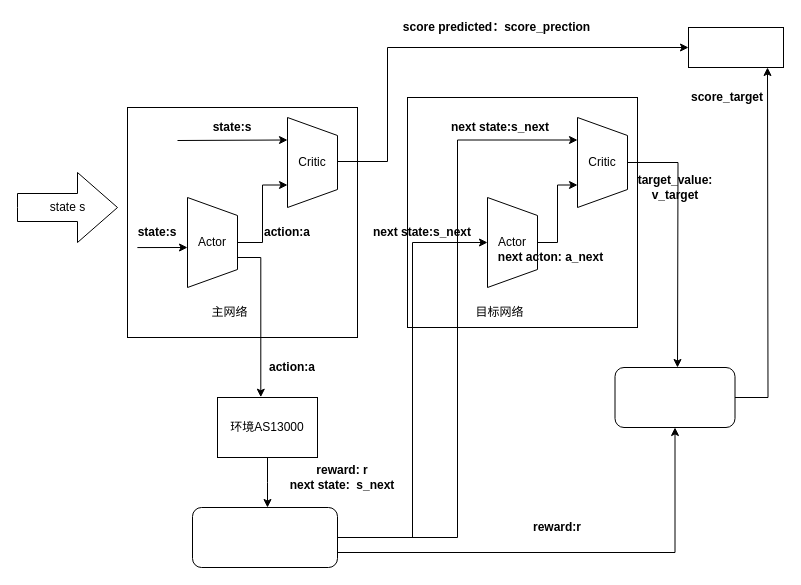
This 801x585 diagram has some shape labels left out. The shapes that lost their labels are listed below. From the top down, each one's centre as x and y in pixels, then its label:
pixel 736 47: MSELoss
pixel 674 397: score_target= r + v_target * 系数
pixel 265 537: 四元组(s, a, r, s_next)
